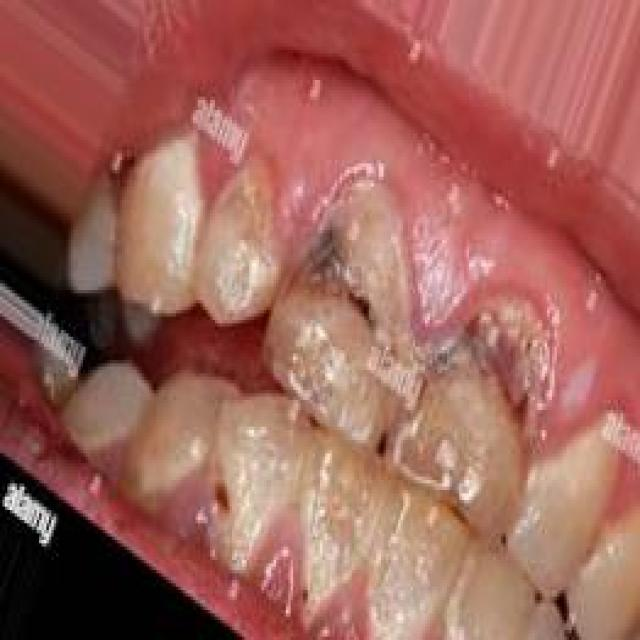caries: (286, 184, 411, 361), (444, 276, 552, 442), (219, 164, 284, 280), (208, 469, 257, 538)
